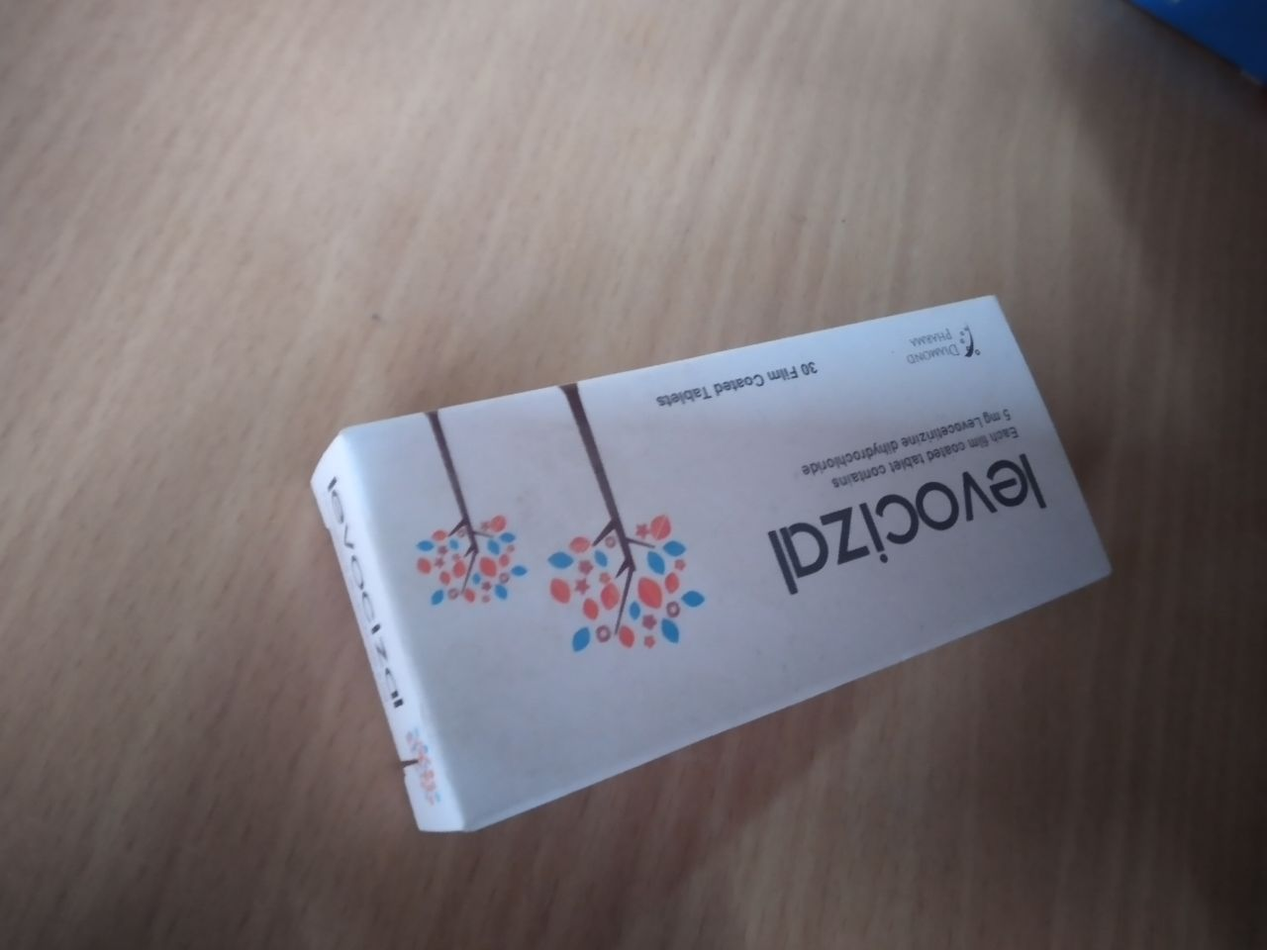Medicine: (304, 287, 1128, 854)
